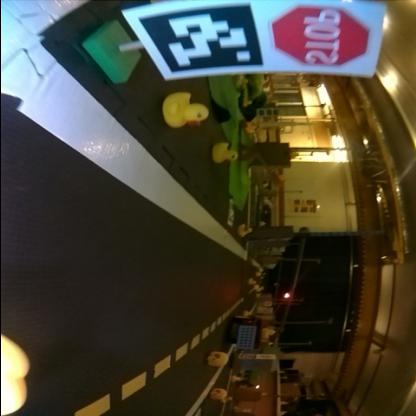Duckie: (162, 93, 208, 127), (214, 144, 238, 165), (206, 352, 228, 368), (238, 225, 252, 236), (210, 390, 226, 399), (262, 328, 274, 340), (248, 279, 256, 285), (245, 310, 252, 316), (244, 101, 250, 107), (222, 398, 230, 402)
Duckiebot: (229, 316, 262, 350)
QR code: (138, 6, 264, 76)
